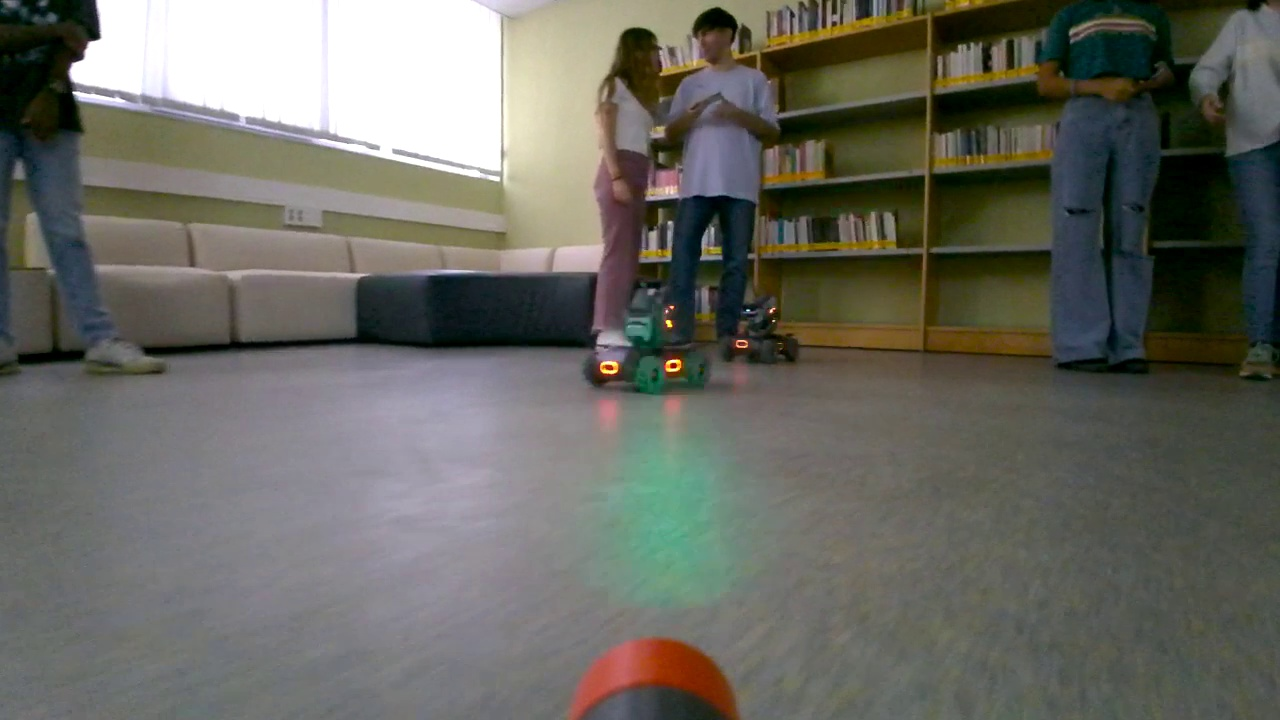robot: (583, 279, 715, 396), (720, 296, 798, 365)
